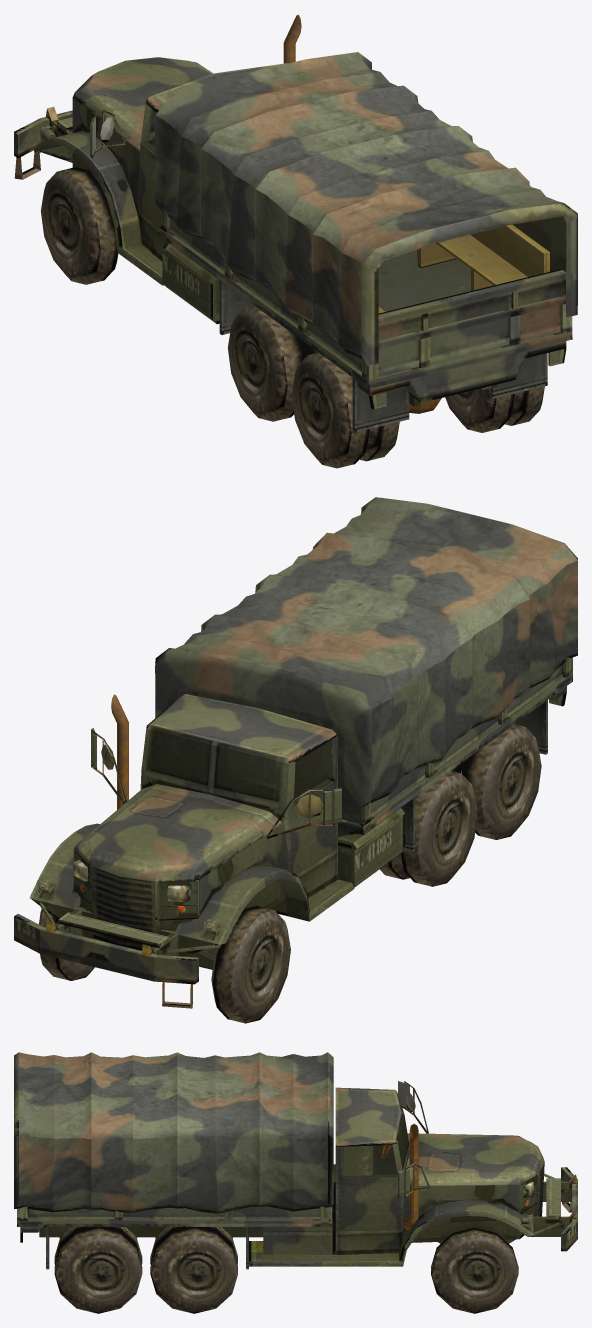
File: explosiveTruck.FBX
The picture shows the model from 3 angles, top to bottom: view 1: azimuth 30°, elevation 25°; view 2: azimuth 150°, elevation 25°; view 3: azimuth 270°, elevation 25°; orthographic projection. The views are drawn at different scales.
Parts seen in each view (by area): view 1: VEHICLE_Army_Troop_Truck:Mesh; view 2: VEHICLE_Army_Troop_Truck:Mesh; view 3: VEHICLE_Army_Troop_Truck:Mesh.
Part boxes in pixels (x1,y1,x2,y2): VEHICLE_Army_Troop_Truck:Mesh: (14, 14, 577, 468); VEHICLE_Army_Troop_Truck:Mesh: (14, 497, 577, 1023); VEHICLE_Army_Troop_Truck:Mesh: (14, 1052, 577, 1313).
Size of the model in its own units: 18.17 by 18.07 by 47.11.
Materials: 1 (1 with a texture image).
